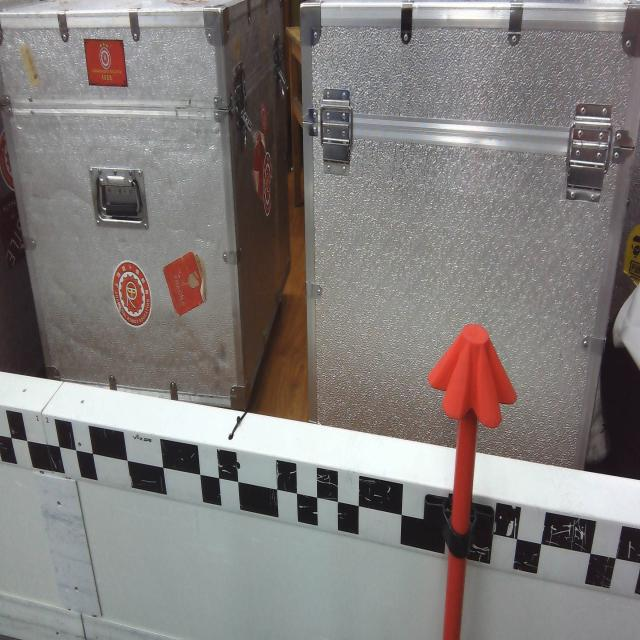zred-Stake-Head: (428, 324, 517, 428)
